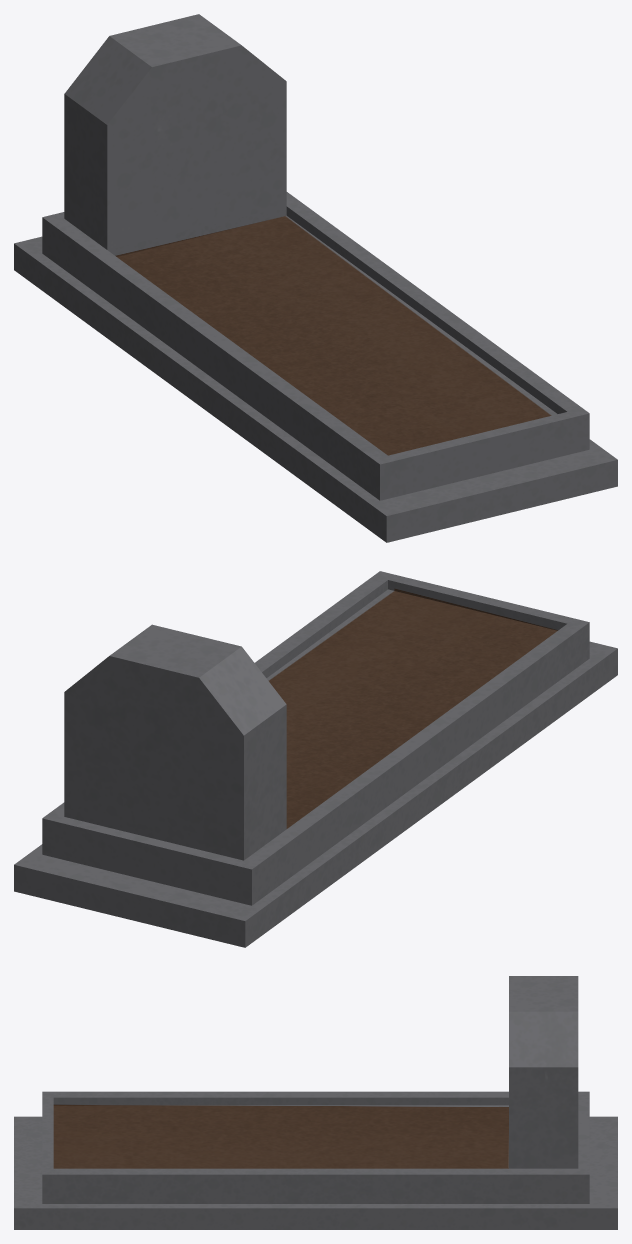
File: Grave.obj
3 renders of one model, top to bottom at view 1: azimuth 30°, elevation 25°; view 2: azimuth 150°, elevation 25°; view 3: azimuth 270°, elevation 25°, orthographic. The views are drawn at different scales.
Parts seen in each view (by area): view 1: Grave_pCube1; view 2: Grave_pCube1; view 3: Grave_pCube1.
Part boxes in pixels (bbox=[...]): Grave_pCube1: bbox=[14, 14, 617, 542]; Grave_pCube1: bbox=[14, 571, 617, 947]; Grave_pCube1: bbox=[14, 976, 617, 1229].
Bounding box in the file's own units: 2.89 × 2.8 × 8.05.
